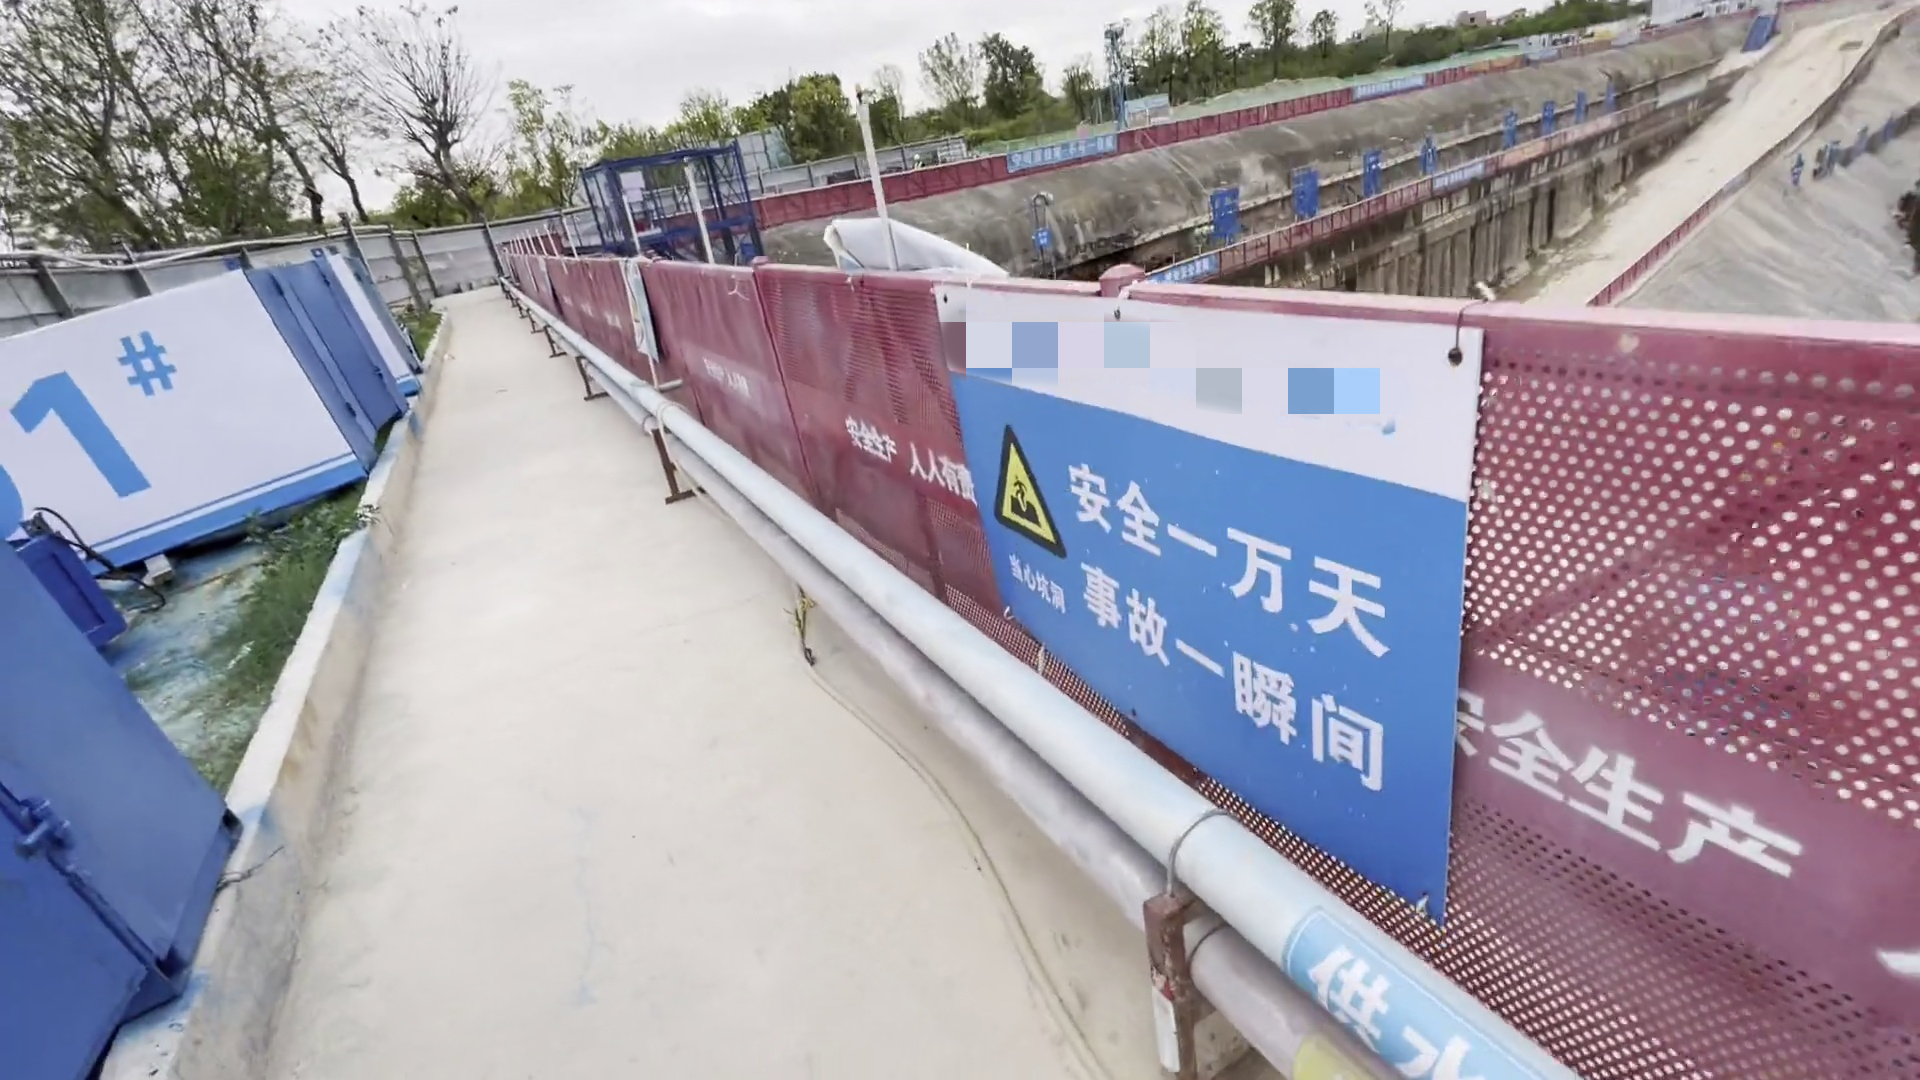fence: (574, 262, 1908, 891)
slogan: (940, 287, 1523, 877)
